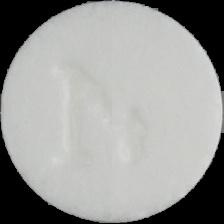54868-0691: (0, 0, 224, 224)
